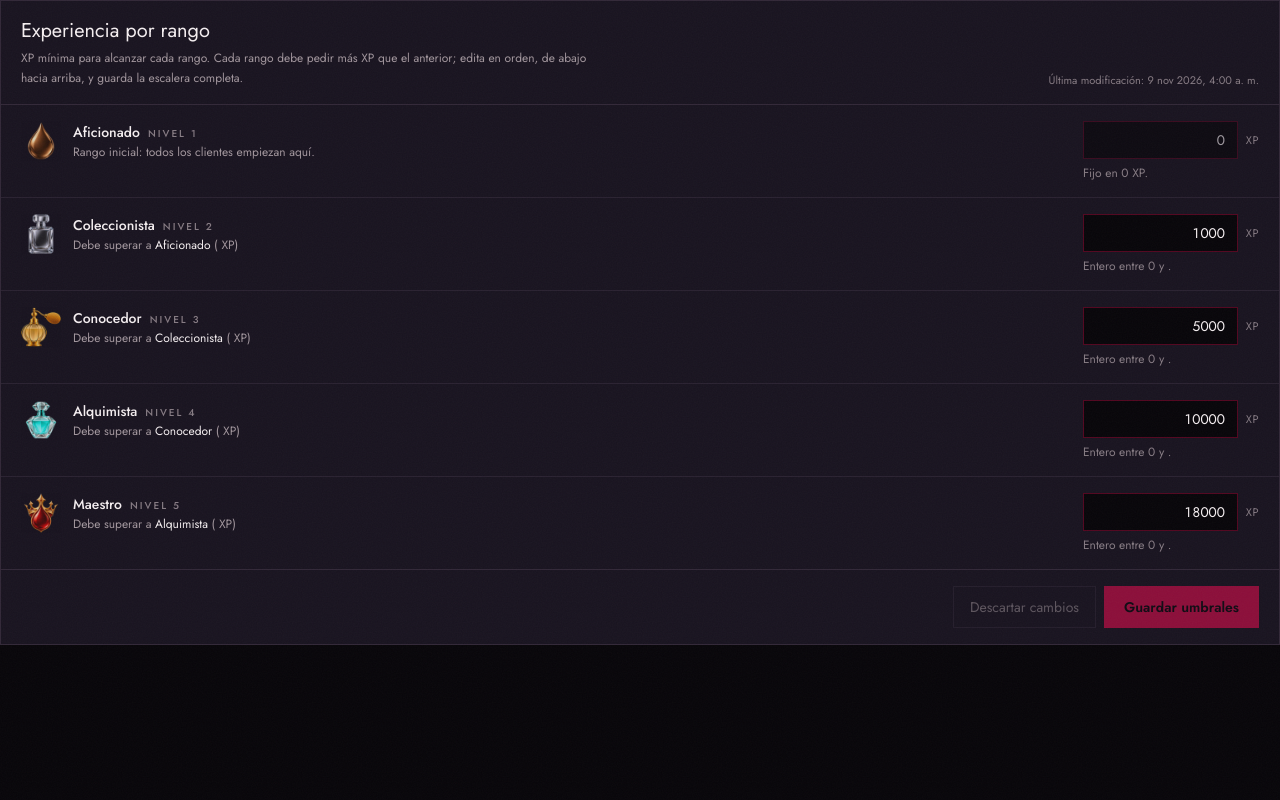
it: TierThresholdsEditor — saving › shows the server's reason when the save is rejected
Replace the text in the 5th field with "20000" at {"x": 1160, "y": 512}, box [1083,493,1238,531]
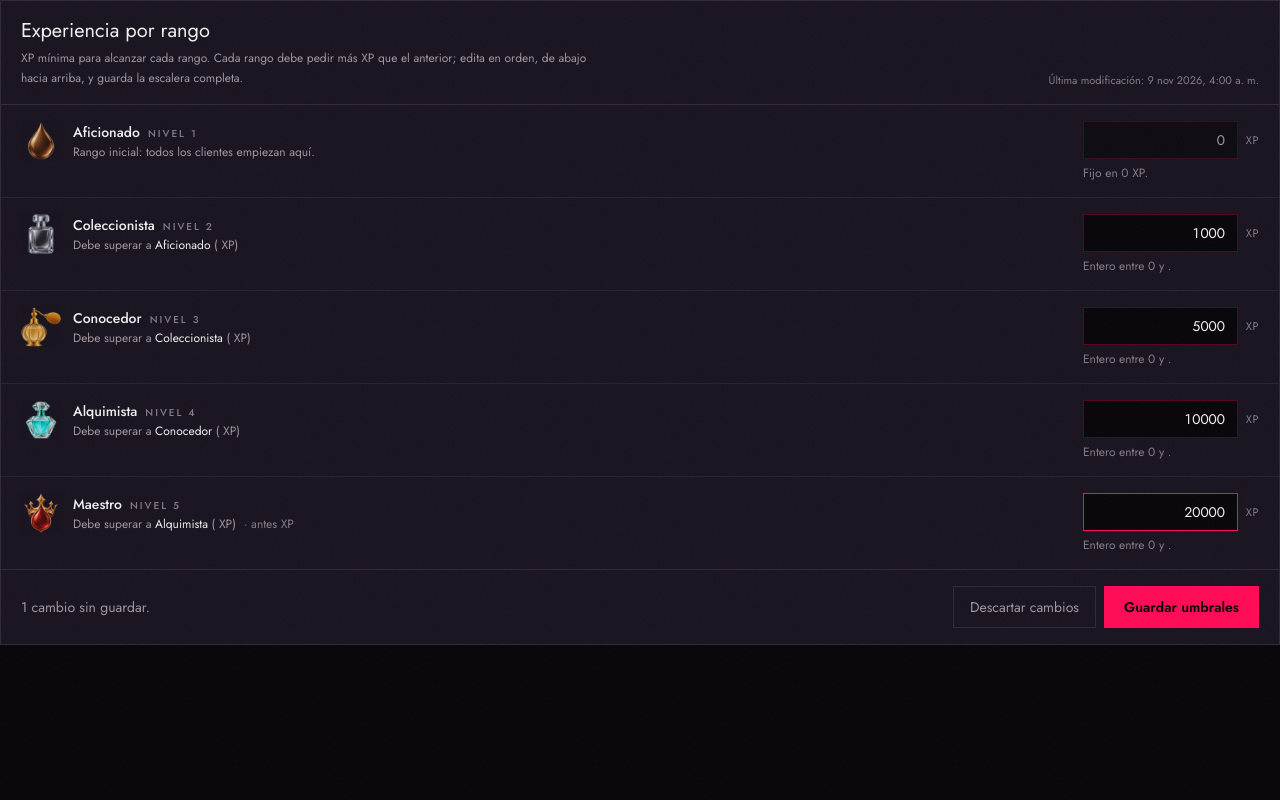
Click the button "Guardar umbrales" at {"x": 1182, "y": 607}, box [1104,586,1259,628]
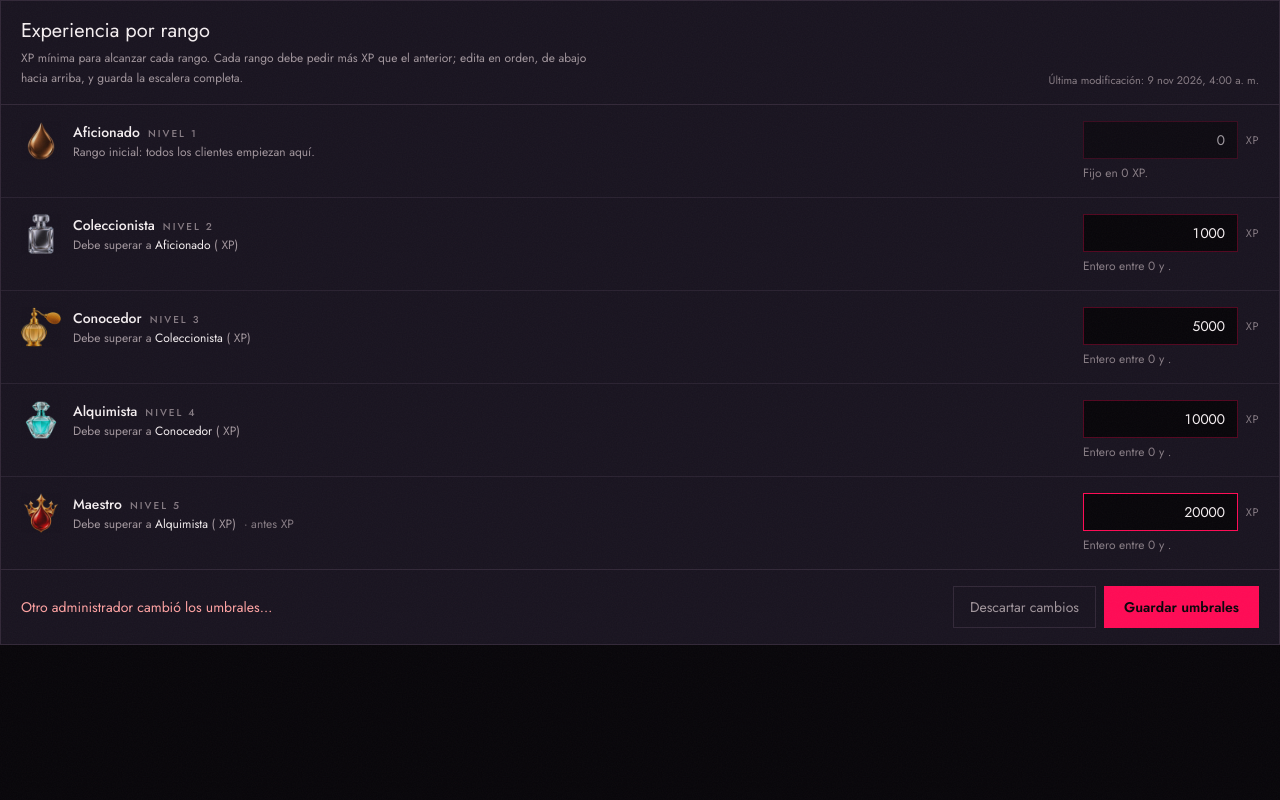
Now the message shows "Otro administrador", box [21,597,272,617]
